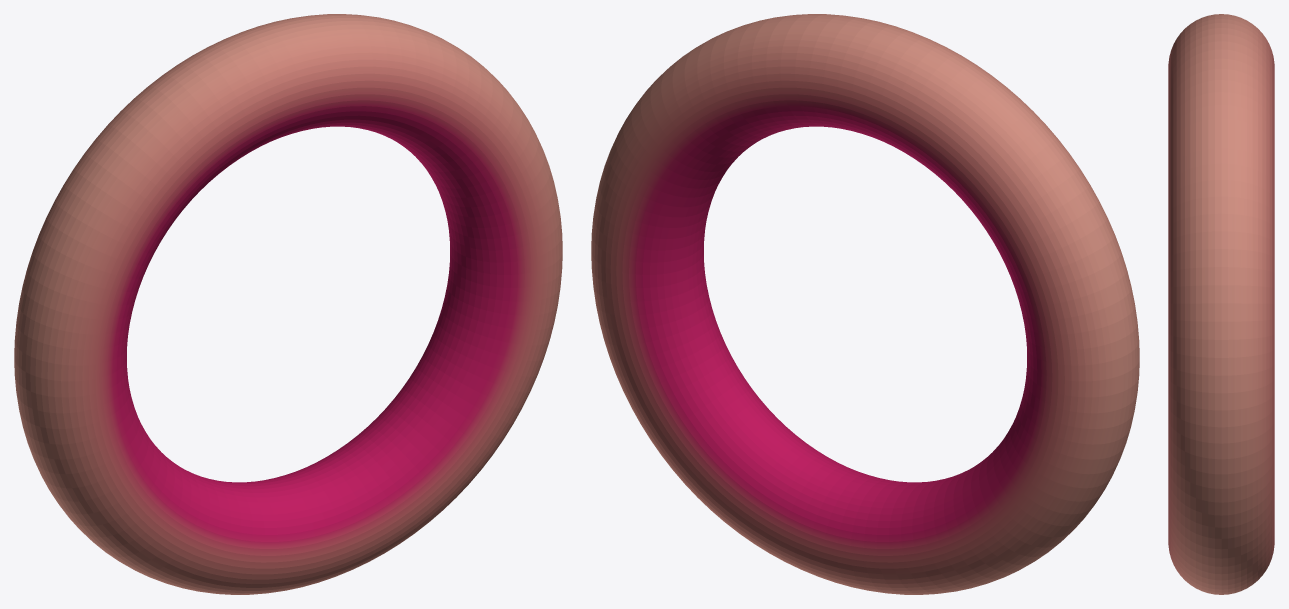
The picture shows the model from 3 angles, left to right: view 1: azimuth 30°, elevation 25°; view 2: azimuth 150°, elevation 25°; view 3: azimuth 270°, elevation 25°; orthographic projection. The views are drawn at different scales.
Visible parts, largest first — view 1: world; view 2: world; view 3: world.
Boxes of the visible parts, x1,y1,x2,y2 form: world: (14,14,562,594); world: (591,14,1139,594); world: (1168,14,1274,594).
Size of the model in its own units: 34.27 by 34.27 by 6.25.
